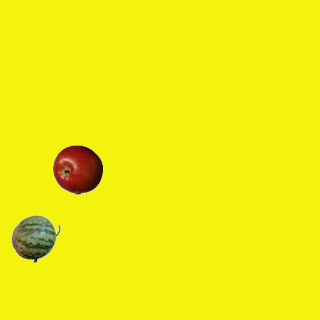Apple Braeburn: (52, 144, 102, 194)
Watermelon: (10, 213, 60, 263)
